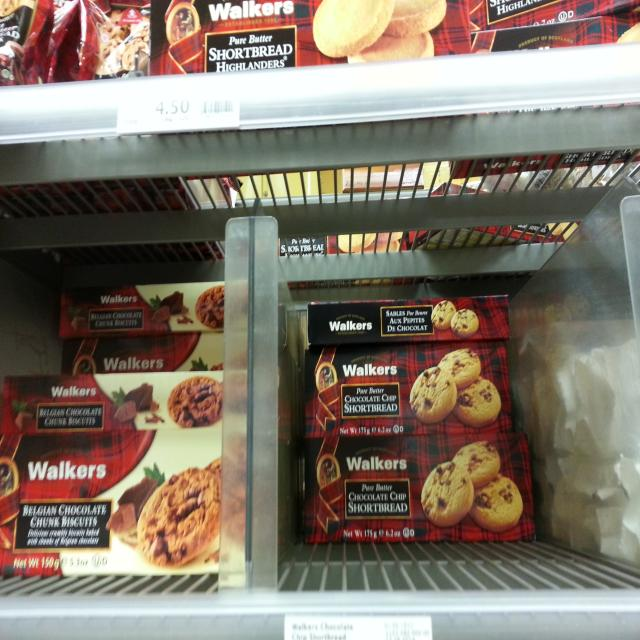Biscuits: (0, 431, 251, 575), (294, 433, 533, 544), (165, 0, 470, 72), (301, 348, 518, 436), (5, 372, 248, 438), (309, 291, 512, 353), (54, 281, 246, 335)
